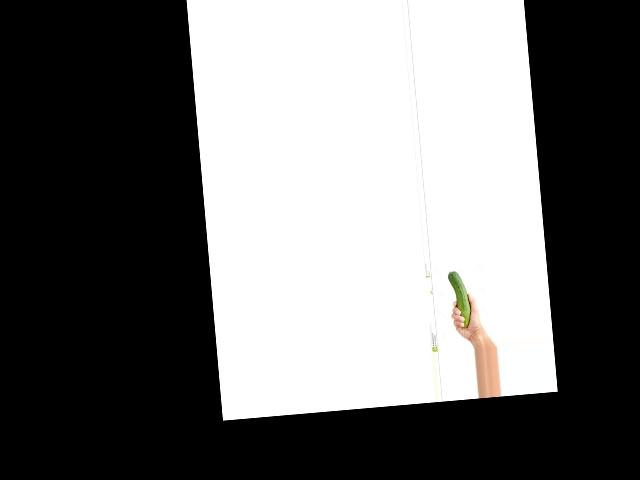cucumber: (447, 269, 471, 328)
